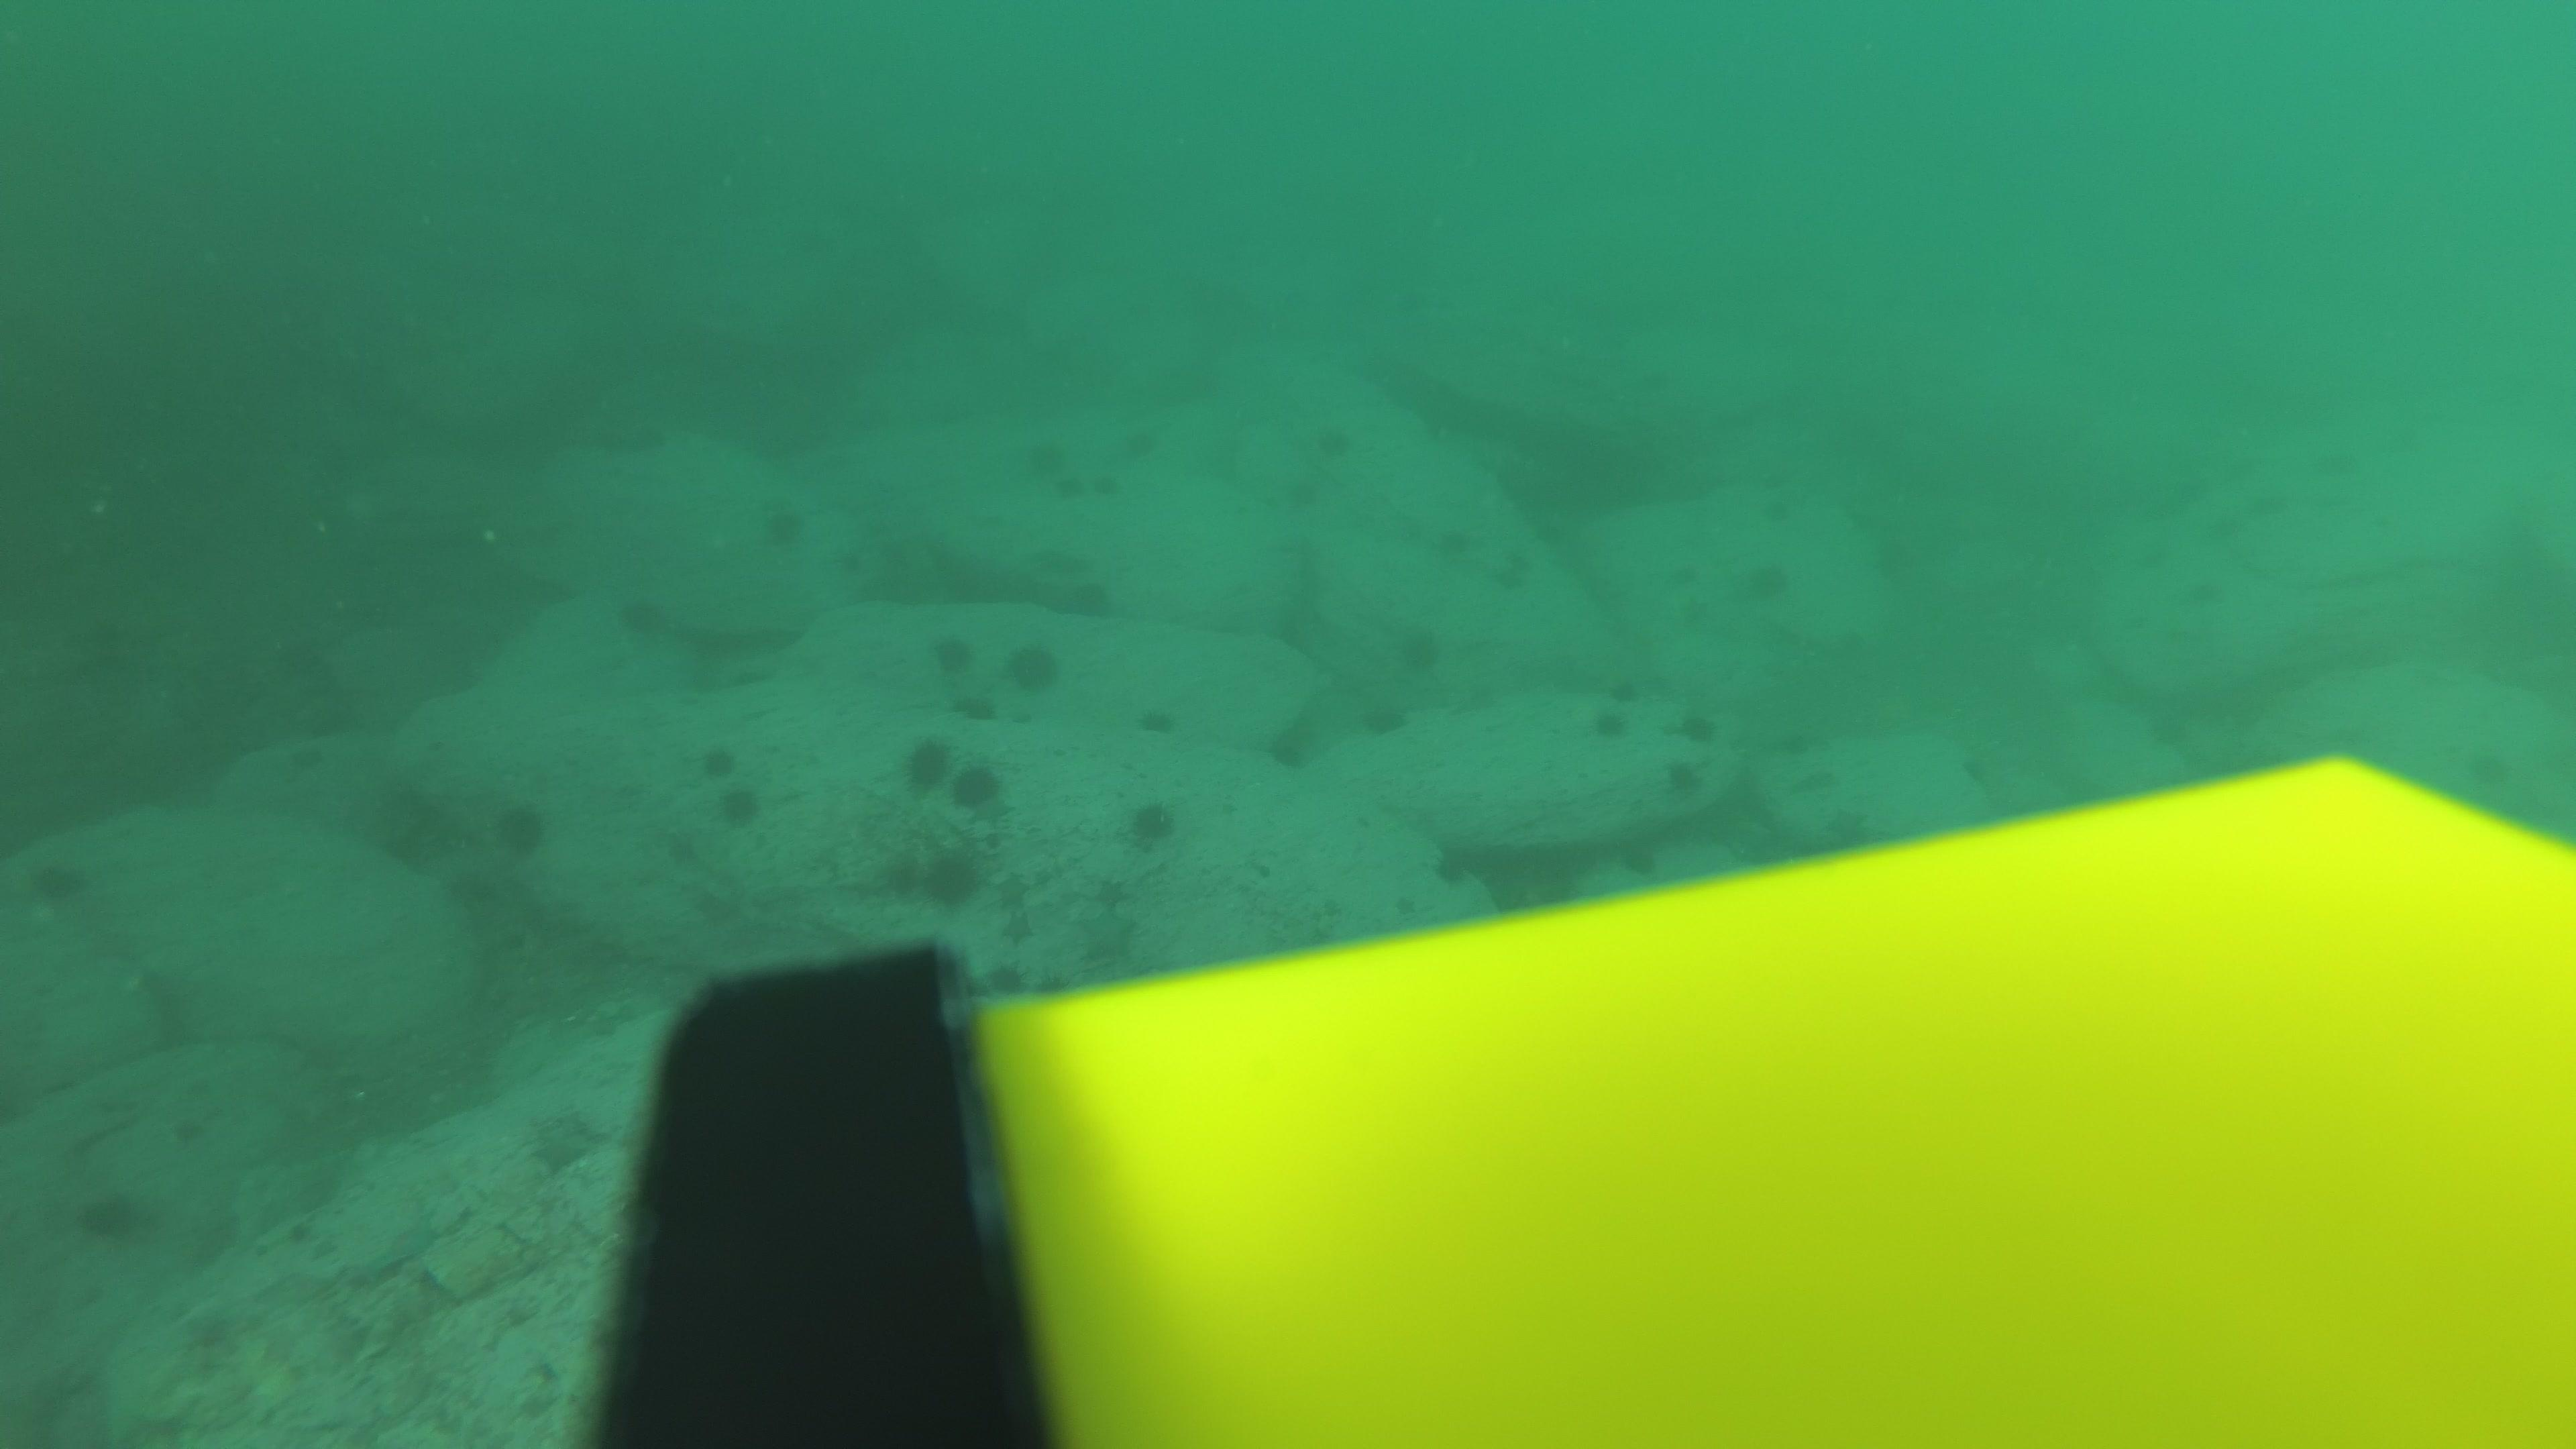echinus: (370, 778, 458, 869), (74, 1184, 150, 1247), (27, 853, 92, 911), (936, 754, 1001, 812), (920, 846, 980, 908), (494, 796, 550, 860), (1263, 711, 1320, 773), (1007, 639, 1062, 695), (902, 736, 954, 796), (1431, 837, 1484, 890), (1127, 794, 1178, 849), (616, 589, 667, 642), (759, 497, 809, 550), (1396, 621, 1444, 676), (1743, 556, 1792, 605), (929, 630, 975, 678), (717, 782, 763, 830), (1361, 695, 1410, 740), (697, 740, 743, 784), (1030, 964, 1076, 1008), (1067, 566, 1113, 610), (1315, 419, 1361, 464), (1283, 471, 1329, 515), (1587, 702, 1631, 747), (978, 955, 1023, 1000), (1138, 704, 1182, 748), (961, 686, 1005, 731), (1030, 432, 1074, 476), (1127, 418, 1171, 462), (1431, 513, 1476, 557), (1537, 865, 1582, 908), (1661, 757, 1706, 800), (2181, 570, 2226, 612), (1672, 706, 1718, 747), (1493, 878, 1537, 918), (2146, 715, 2190, 750), (2327, 448, 2362, 487), (2206, 511, 2247, 545), (2472, 750, 2514, 782), (2178, 469, 2212, 508), (830, 547, 865, 580), (2252, 494, 2288, 525), (1957, 752, 1992, 784), (1497, 563, 1529, 596), (1766, 497, 1799, 529), (1782, 725, 1815, 757), (1053, 472, 1085, 504), (1502, 548, 1534, 580), (1674, 589, 1706, 621), (1614, 678, 1645, 709), (1461, 686, 1493, 718), (1626, 846, 1658, 878), (1093, 474, 1123, 506), (1668, 561, 1698, 593)
starfish: (320, 1191, 474, 1286), (522, 1108, 596, 1177), (1074, 892, 1139, 962), (1001, 904, 1037, 947), (996, 870, 1030, 913), (1833, 805, 1867, 847), (1093, 872, 1127, 915)
